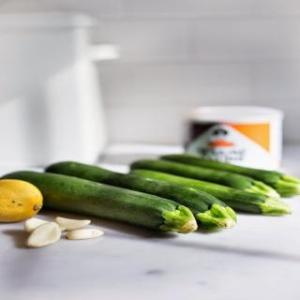zucchini: (43, 167, 239, 235)
